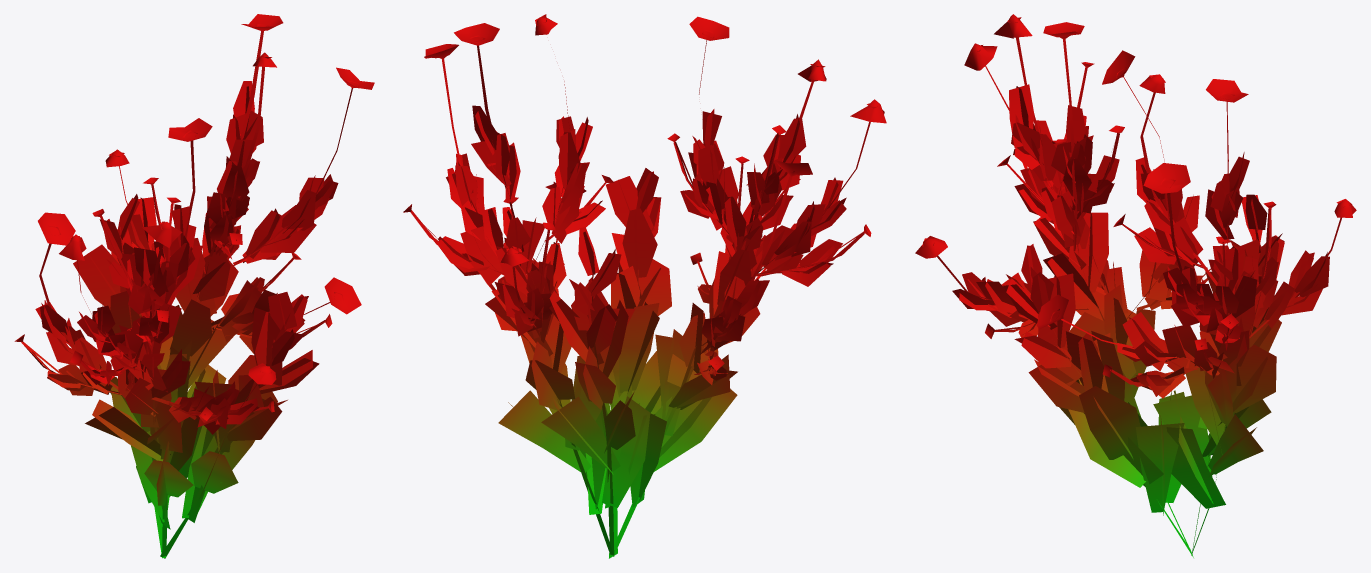
The model's file is Chamomile_LOD3_Var1.fbx.
The picture shows the model from 3 angles, left to right: view 1: azimuth 30°, elevation 25°; view 2: azimuth 150°, elevation 25°; view 3: azimuth 270°, elevation 25°; orthographic projection. The views are drawn at different scales.
Visible parts, largest first — view 1: _d76t_Var1_LOD3; view 2: _d76t_Var1_LOD3; view 3: _d76t_Var1_LOD3.
Boxes of the visible parts, x1,y1,x2,y2 form: _d76t_Var1_LOD3: (14, 14, 374, 558); _d76t_Var1_LOD3: (403, 14, 886, 558); _d76t_Var1_LOD3: (915, 14, 1356, 557).
Size of the model in its own units: 48.48 by 60.54 by 45.69.
